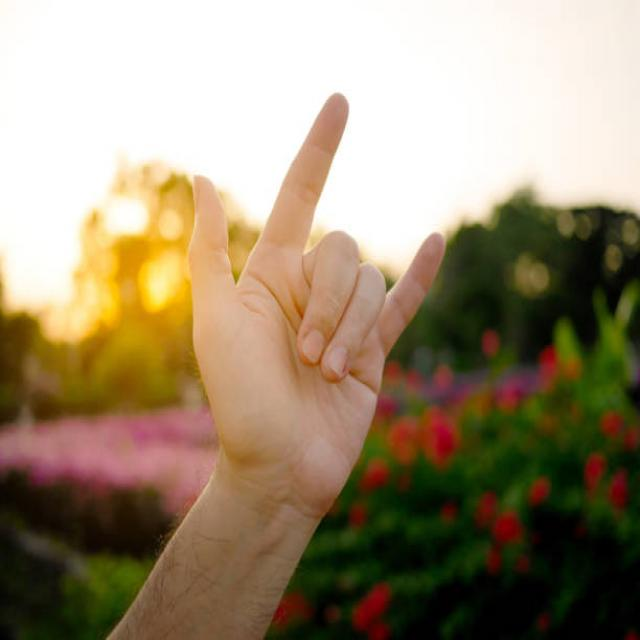I Love You: (149, 81, 428, 493)
